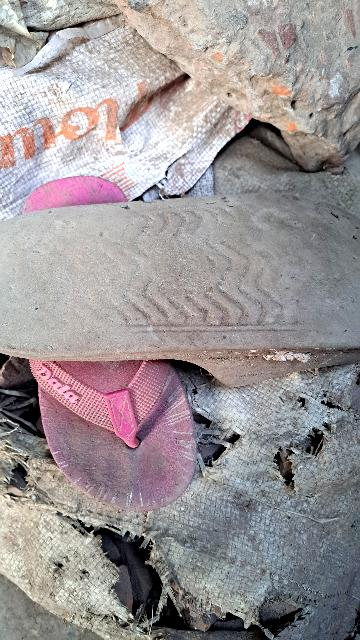sandal: (0, 176, 360, 380)
